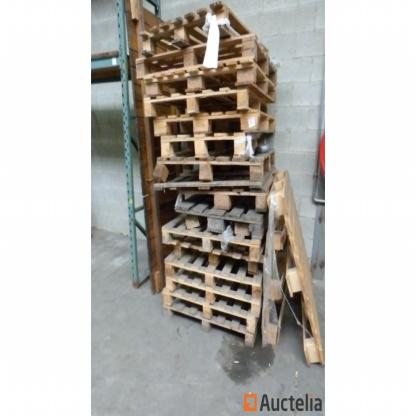BoxFace: (135, 37, 279, 82), (142, 61, 280, 102), (162, 252, 265, 302), (161, 213, 261, 262), (154, 111, 279, 138)
